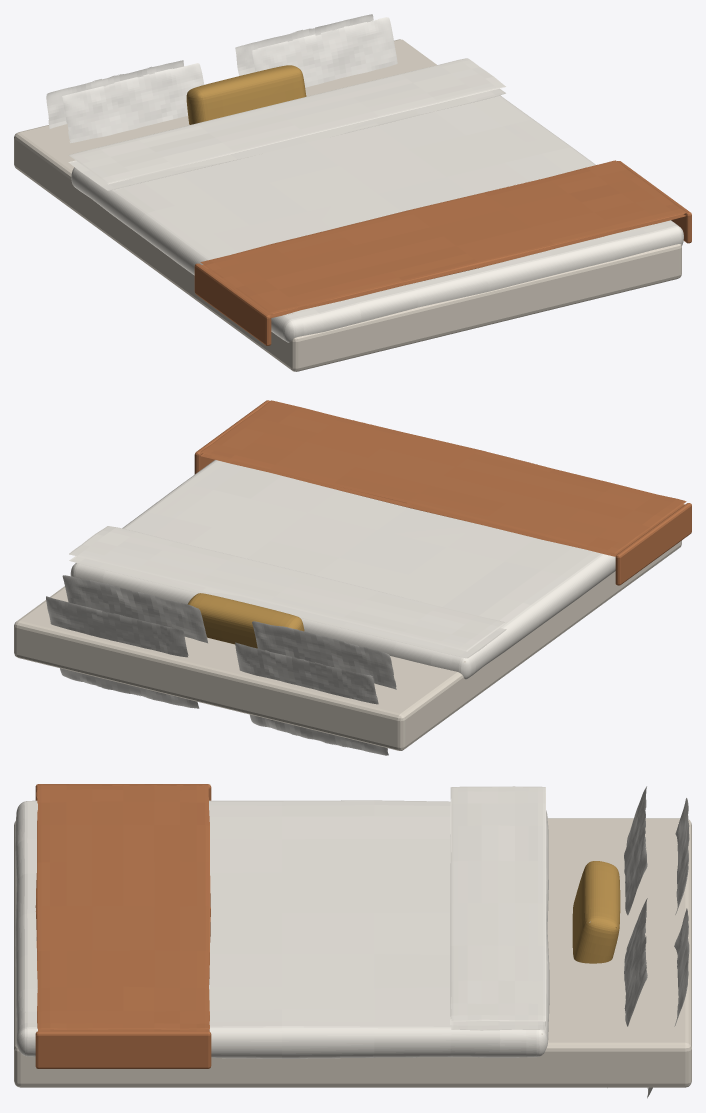
The picture shows the model from 3 angles, top to bottom: view 1: azimuth 30°, elevation 25°; view 2: azimuth 150°, elevation 25°; view 3: azimuth 270°, elevation 25°; orthographic projection. The views are drawn at different scales.
Visible parts, largest first — view 1: sheet; view 2: sheet; view 3: sheet.
Boxes of the visible parts, x1=… form: sheet: x1=14, y1=14, x2=691, y2=371; sheet: x1=14, y1=400, x2=691, y2=755; sheet: x1=14, y1=784, x2=691, y2=1098.
Bounding box in the file's own units: 1.75 × 0.415 × 2.01.
